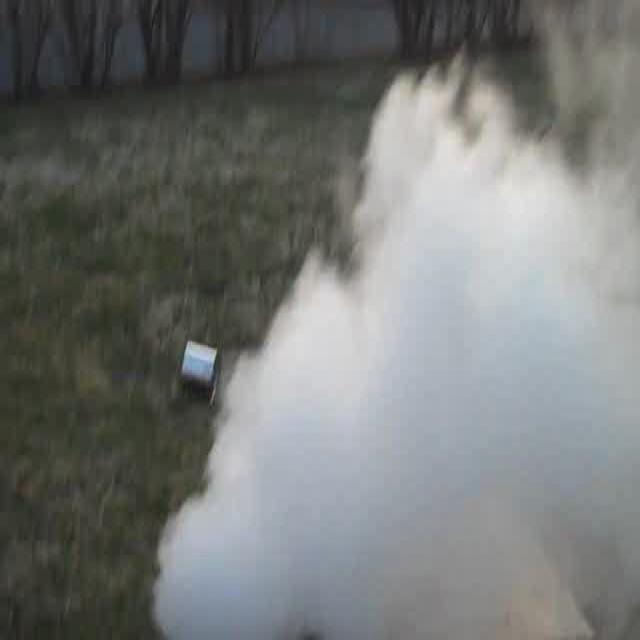Smoke: (178, 73, 638, 640)
